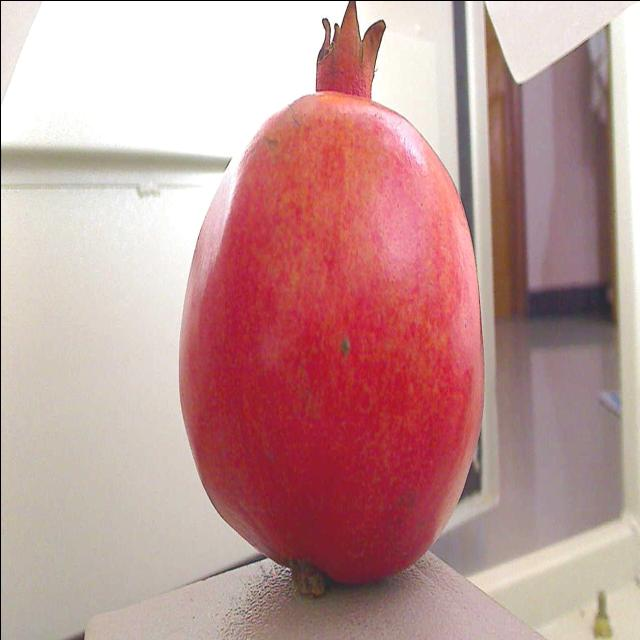pomegranate: (167, 0, 488, 594)
